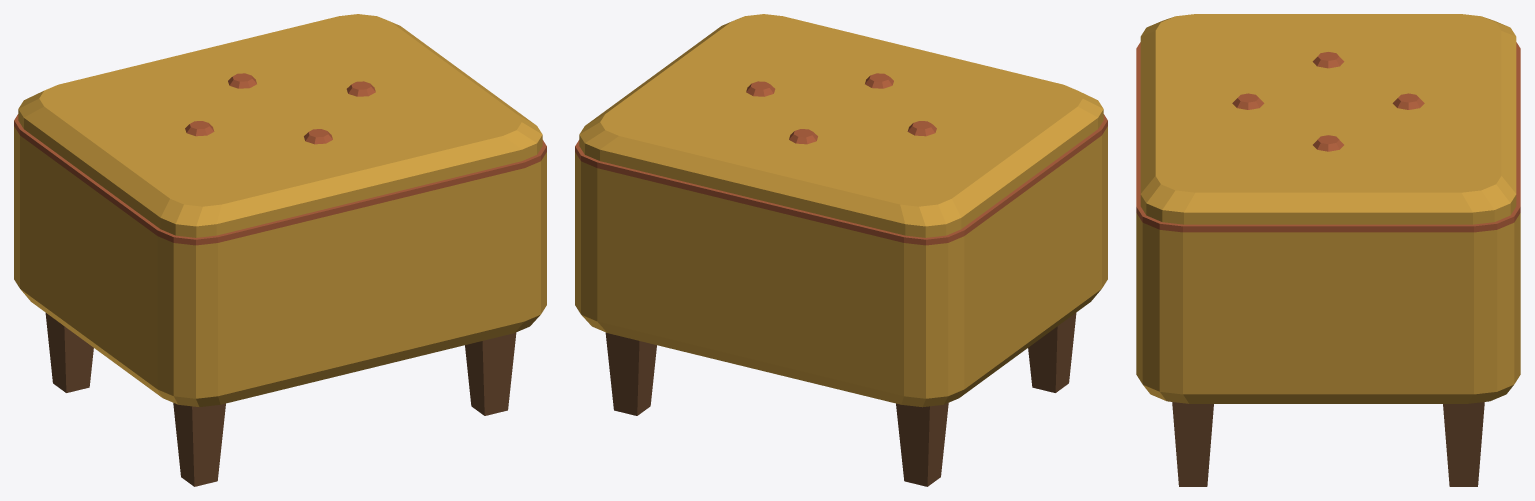
File: FN_Stool_Footstool.obj
The picture shows the model from 3 angles, left to right: view 1: azimuth 30°, elevation 25°; view 2: azimuth 150°, elevation 25°; view 3: azimuth 270°, elevation 25°; orthographic projection. The views are drawn at different scales.
Visible parts, largest first — view 1: FN_Stool_Footstool; view 2: FN_Stool_Footstool; view 3: FN_Stool_Footstool.
Boxes of the visible parts, <box> form: FN_Stool_Footstool: <box>14,14,546,486</box>; FN_Stool_Footstool: <box>575,14,1107,486</box>; FN_Stool_Footstool: <box>1136,14,1520,486</box>.
Size of the model in its own units: 0.56 by 0.407 by 0.46.
Materials: 1 (1 with a texture image).
